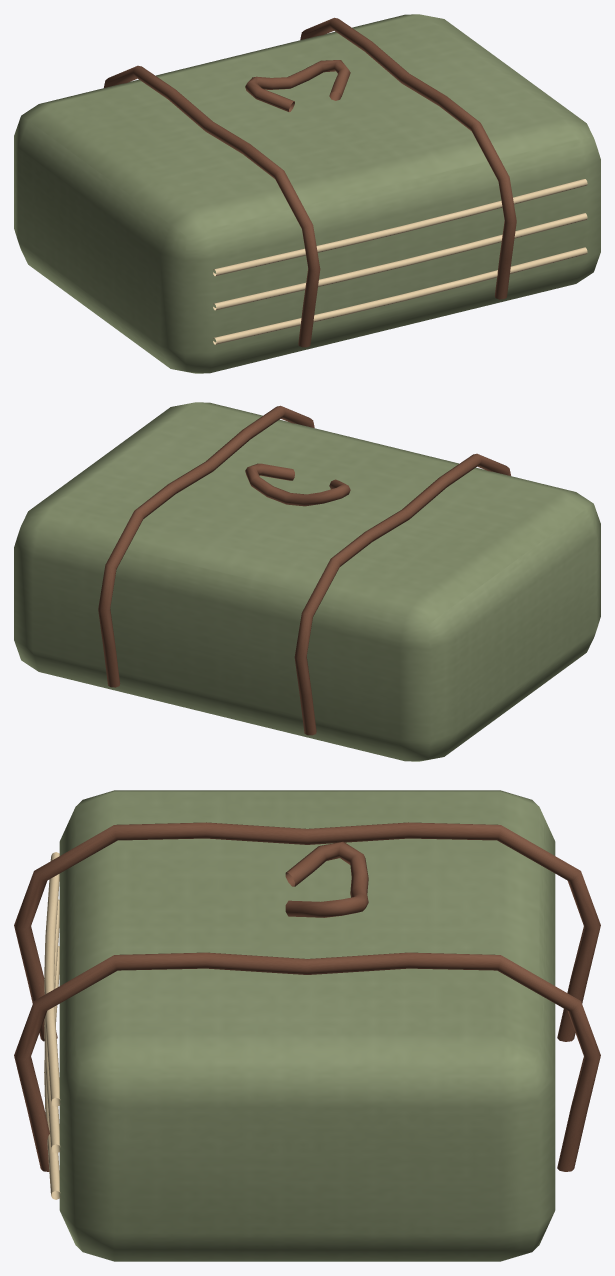
File: 22-stoffpaket-gruen.glb
3 renders of one model, top to bottom at view 1: azimuth 30°, elevation 25°; view 2: azimuth 150°, elevation 25°; view 3: azimuth 270°, elevation 25°, orthographic. The views are drawn at different scales.
Visible parts, largest first — view 1: Folded textile, Parcel cord.001, Parcel cord, Fold layers.002, Fold layers, Fold layers.001, Simple knot; view 2: Folded textile, Parcel cord.001, Parcel cord, Simple knot; view 3: Folded textile, Parcel cord.001, Parcel cord, Simple knot, Fold layers.002, Fold layers.001, Fold layers.
Boxes of the visible parts, box(x1,y1,x2,y2) form: Folded textile: box(14, 14, 600, 373); Parcel cord.001: box(300, 17, 516, 299); Parcel cord: box(104, 65, 320, 347); Fold layers.002: box(213, 179, 587, 276); Fold layers: box(213, 247, 587, 344); Fold layers.001: box(213, 213, 587, 310); Simple knot: box(245, 60, 350, 111); Folded textile: box(14, 402, 600, 761); Parcel cord.001: box(98, 405, 314, 687); Parcel cord: box(294, 453, 510, 735); Simple knot: box(245, 463, 350, 506); Folded textile: box(59, 790, 555, 1261); Parcel cord.001: box(14, 952, 600, 1171); Parcel cord: box(14, 822, 600, 1041); Simple knot: box(285, 841, 368, 917); Fold layers.002: box(44, 852, 60, 1106); Fold layers.001: box(44, 899, 60, 1153); Fold layers: box(44, 946, 60, 1199).
Size of the model in its own units: 0.4 by 0.1725 by 0.3433.
3 materials, 3 textured.
